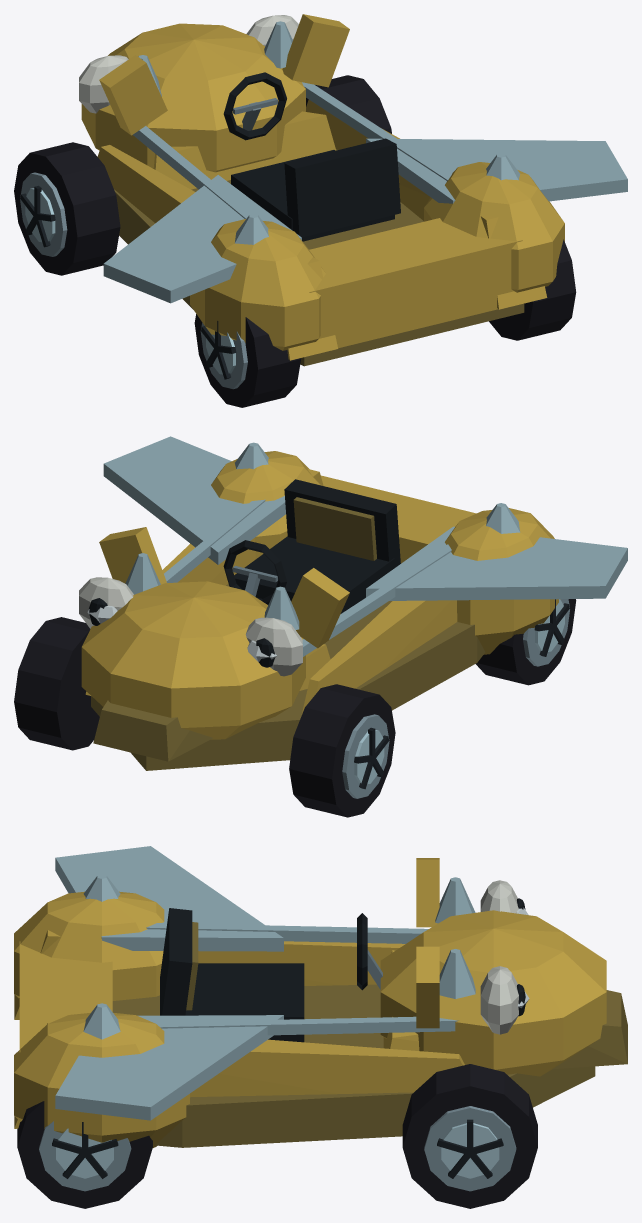
File: kart.glb
The picture shows the model from 3 angles, top to bottom: view 1: azimuth 30°, elevation 25°; view 2: azimuth 150°, elevation 25°; view 3: azimuth 270°, elevation 25°; orthographic projection. The views are drawn at different scales.
Visible parts, largest first — view 1: identity-beast-beast-sculpted-prow-and-haunches, identity-beast-motif-wings, identity-beast-driver-cockpit, wheel-front-left, wheel-rear-left, wheel-rear-right, identity-beast-motif-eyes, wheel-front-right, identity-beast-motif-gems; view 2: identity-beast-beast-sculpted-prow-and-haunches, identity-beast-motif-wings, identity-beast-driver-cockpit, wheel-front-left, wheel-front-right, wheel-rear-left, identity-beast-motif-eyes, identity-beast-motif-gems; view 3: identity-beast-beast-sculpted-prow-and-haunches, identity-beast-motif-wings, wheel-front-right, identity-beast-driver-cockpit, wheel-rear-right, identity-beast-motif-eyes, identity-beast-motif-gems.
Part boxes in pixels (box(x1,y1,x2,y2)): identity-beast-beast-sculpted-prow-and-haunches: box(81, 14, 564, 366); identity-beast-motif-wings: box(103, 138, 627, 303); identity-beast-driver-cockpit: box(223, 72, 400, 241); wheel-front-left: box(14, 142, 120, 275); wheel-rear-left: box(194, 314, 300, 407); wheel-rear-right: box(489, 239, 576, 340); identity-beast-motif-eyes: box(79, 15, 298, 113); wheel-front-right: box(306, 75, 391, 133); identity-beast-motif-gems: box(235, 153, 519, 244); identity-beast-beast-sculpted-prow-and-haunches: box(81, 451, 560, 770); identity-beast-motif-wings: box(103, 436, 627, 600); identity-beast-driver-cockpit: box(223, 479, 400, 613); wheel-front-left: box(289, 684, 395, 817); wheel-front-right: box(14, 617, 99, 750); wheel-rear-left: box(476, 599, 576, 685); identity-beast-motif-eyes: box(79, 577, 302, 676); identity-beast-motif-gems: box(235, 442, 520, 533); identity-beast-beast-sculpted-prow-and-haunches: box(14, 858, 627, 1147); identity-beast-motif-wings: box(55, 846, 283, 1120); wheel-front-right: box(402, 1064, 537, 1208); identity-beast-driver-cockpit: box(160, 908, 382, 1042); wheel-rear-right: box(17, 1101, 152, 1208); identity-beast-motif-eyes: box(480, 880, 525, 1034); identity-beast-motif-gems: box(83, 874, 120, 1039).
Size of the model in its own units: 2.92 by 1.16 by 2.9.
